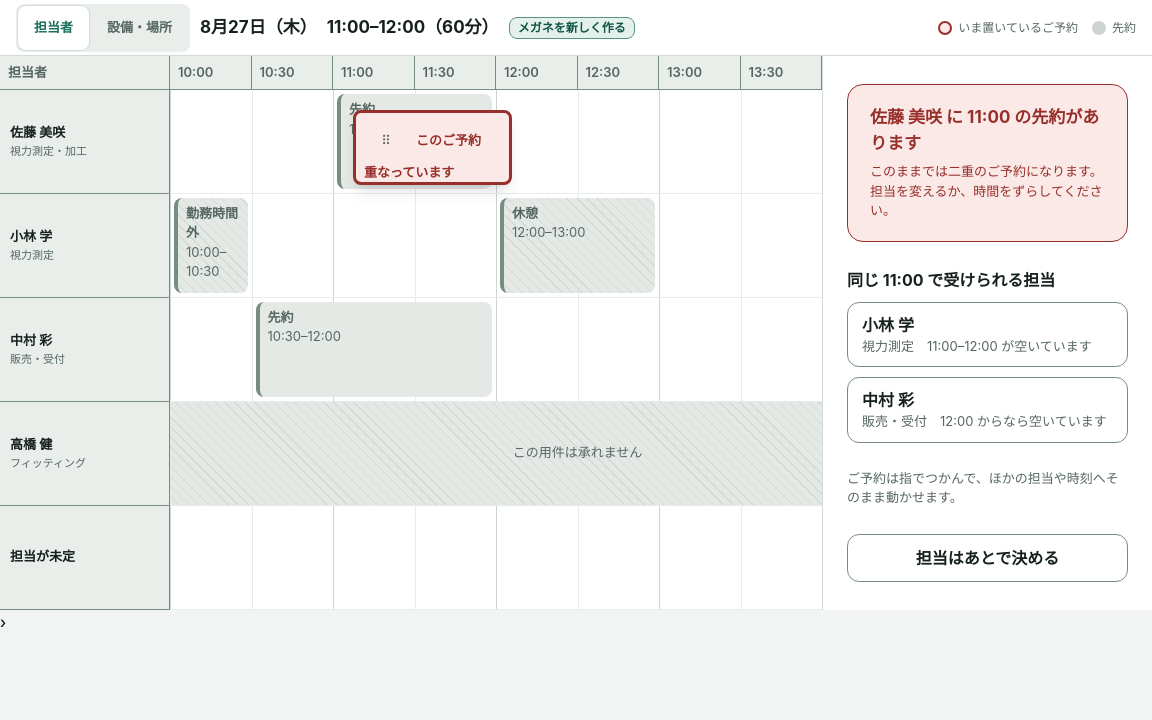
Scenario: 置けない場所 › 点検中の設備へ運ぶと点線の枠を出さず「ここには置けません（視力測定機 B は点検中です）」と理由を添える
Click the button "設備・場所": (140, 28) [91,6,188,50]
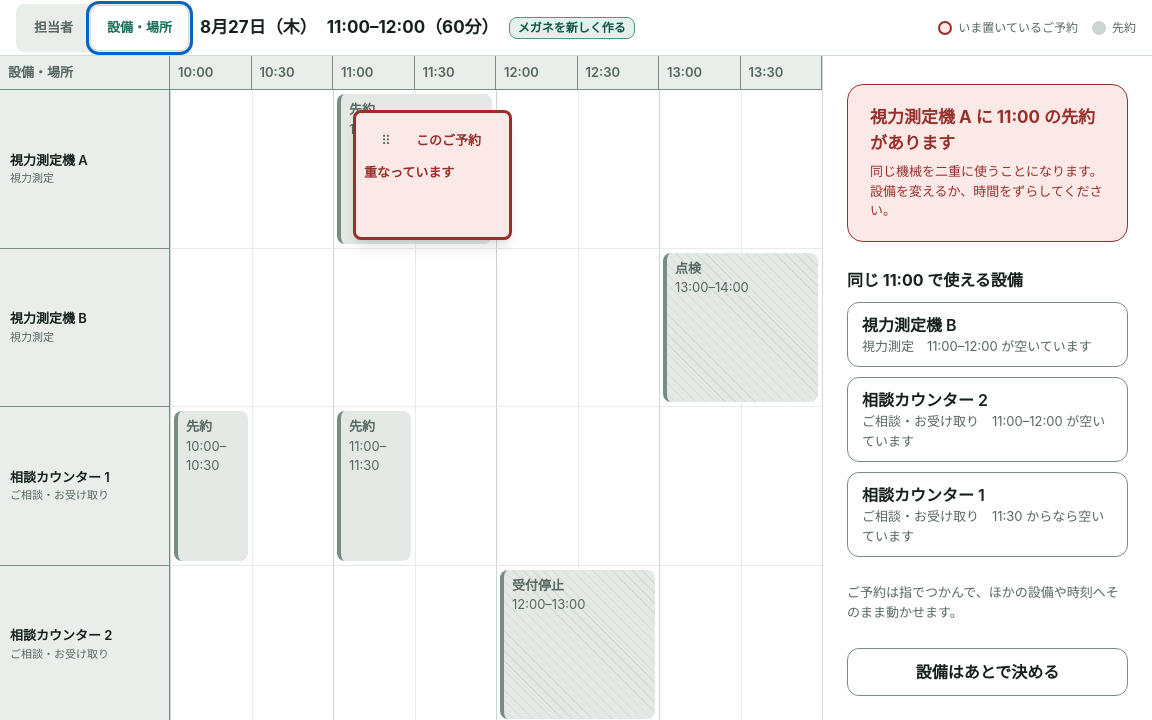
Press the mouse on the button named "ご予約をつかんで動かす": (386, 141) [364,119,408,163]
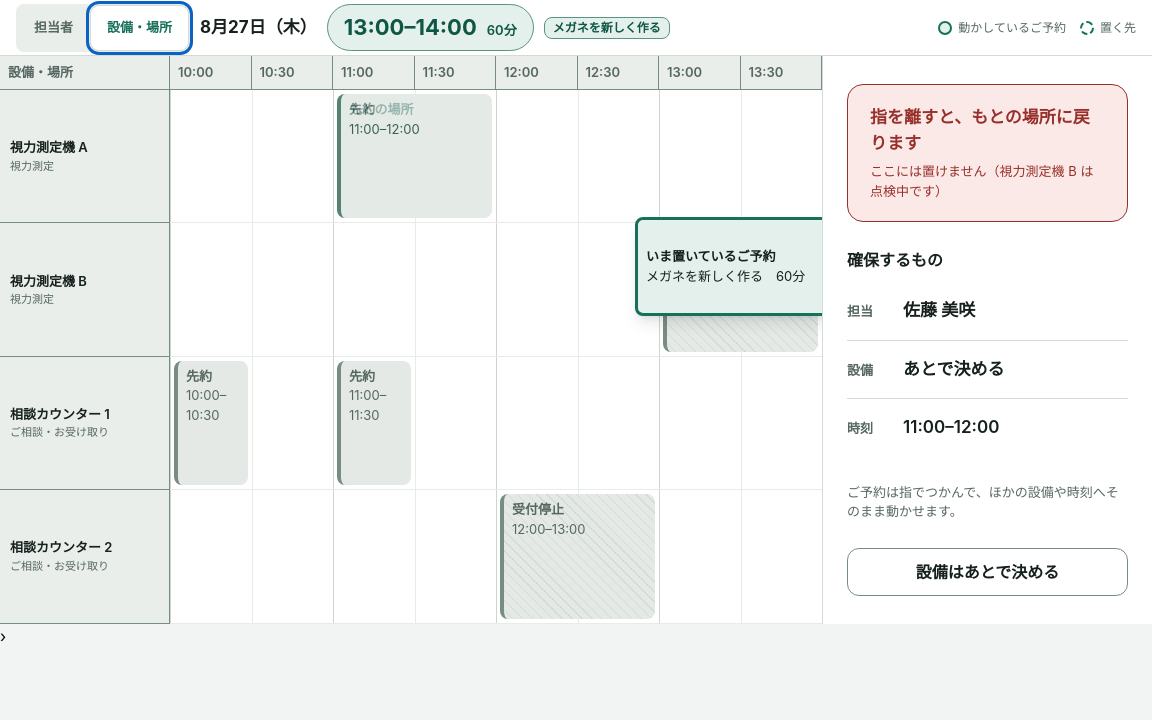
Now the text "ここには置けません（視力測定機 B は点検中です）" is shown, box [870,162,1105,201]
